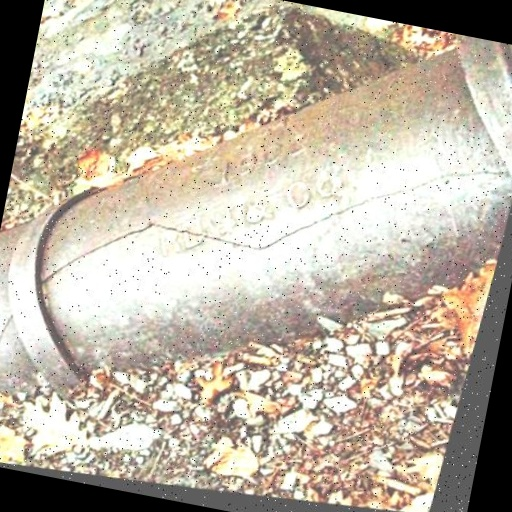crack: (70, 129, 458, 386), (0, 180, 22, 461)
